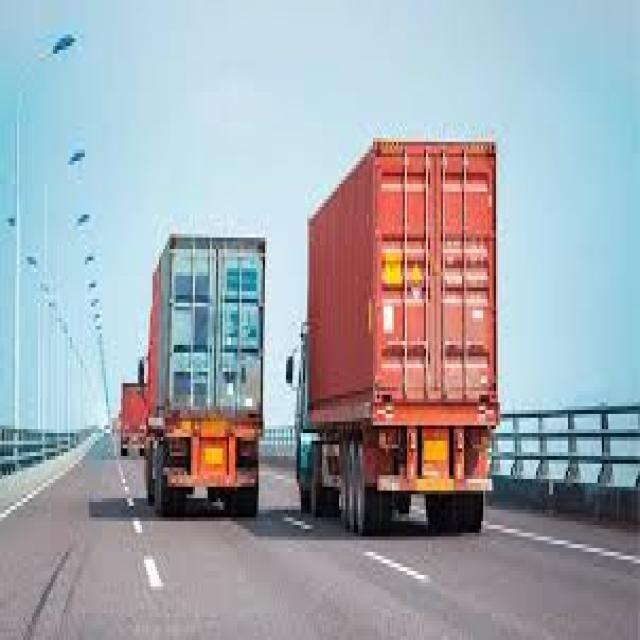covered: (288, 130, 500, 533), (148, 236, 260, 514), (120, 376, 150, 457)
